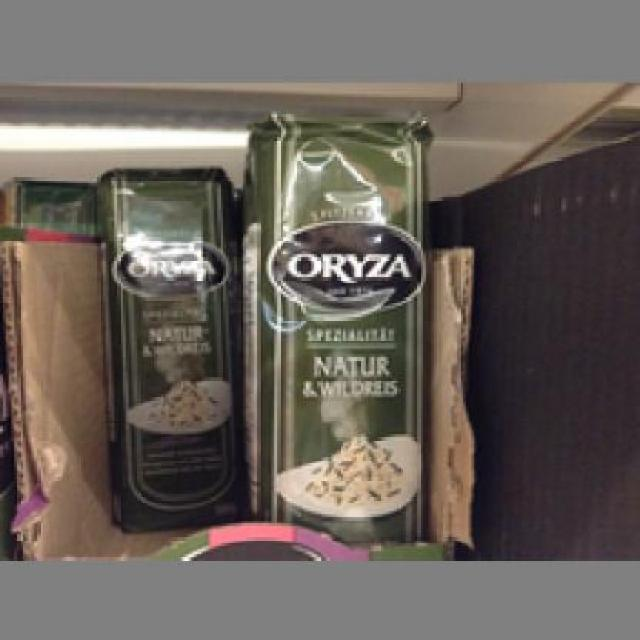Rice: (233, 108, 430, 538), (88, 160, 245, 526)
